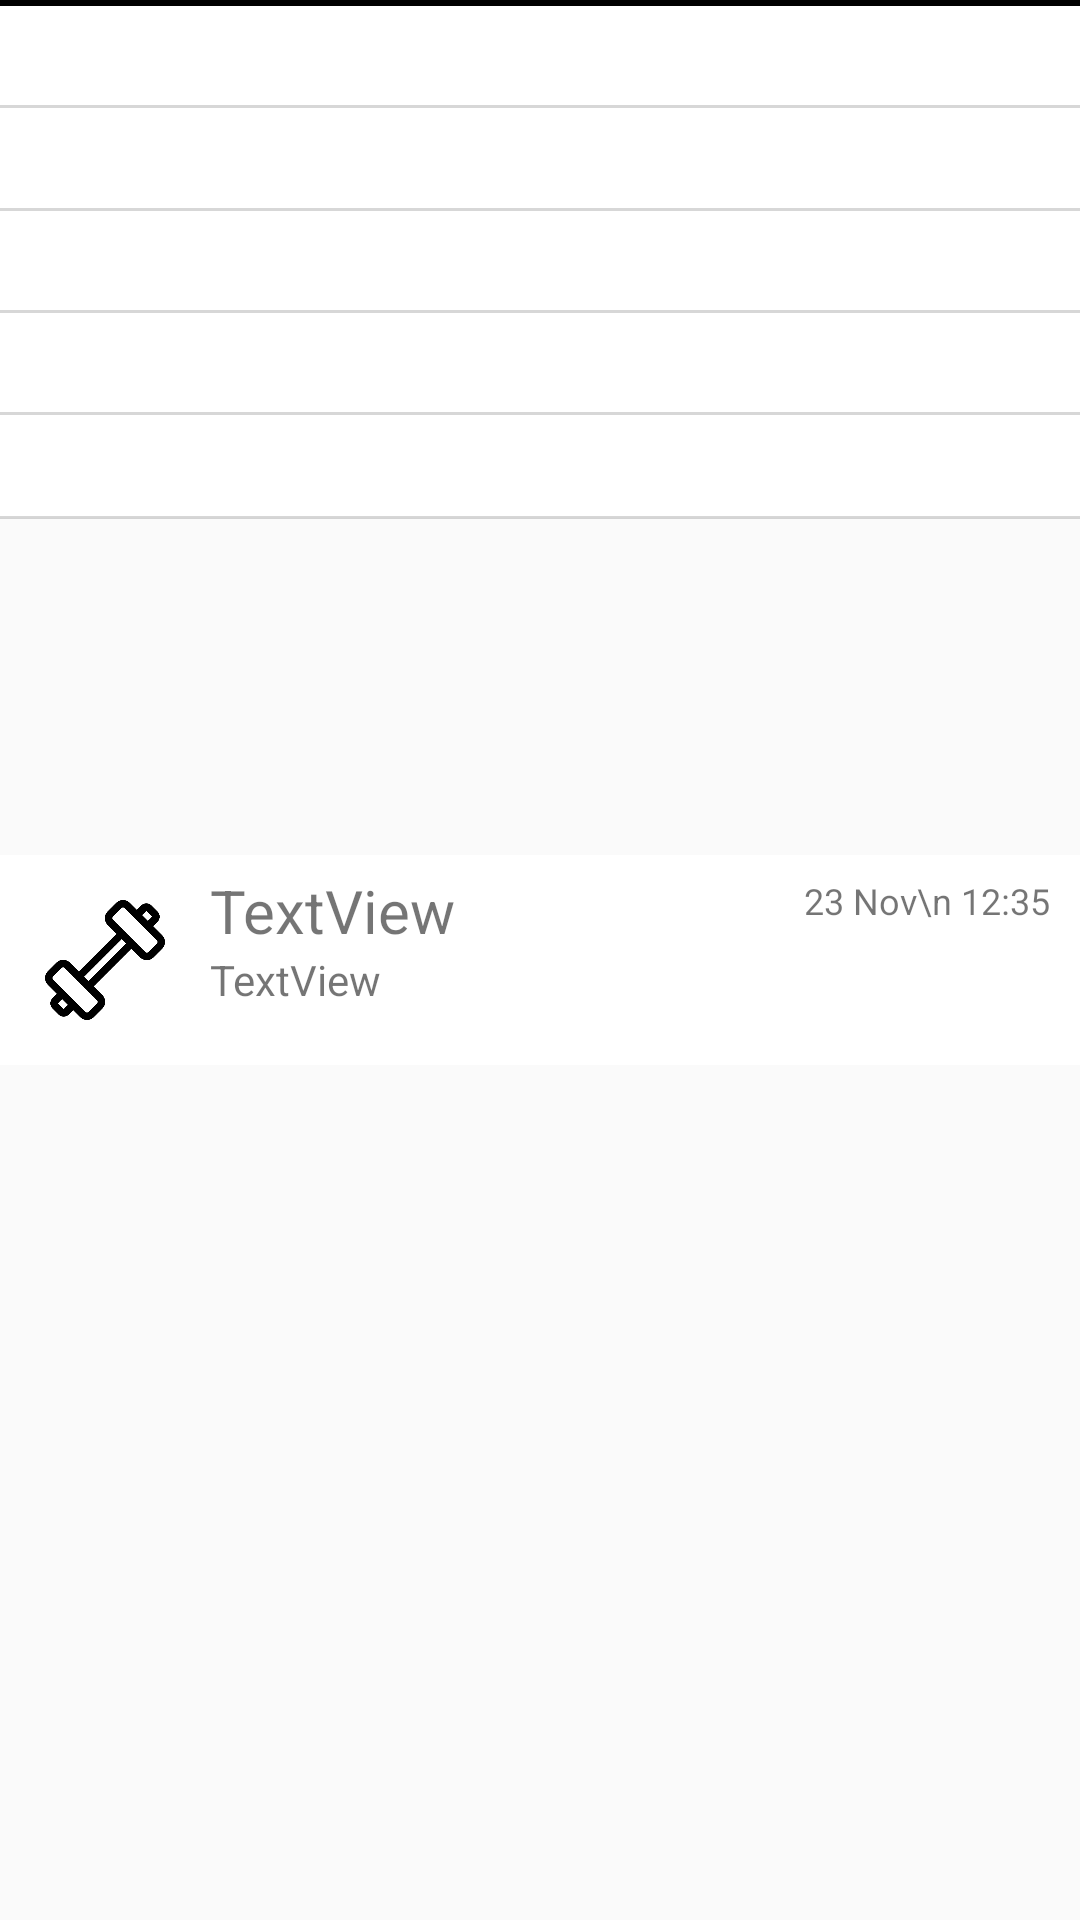

Icon click points for this 1080*1920 phone screenshot, format [x,y]:
sport: [105,960]
